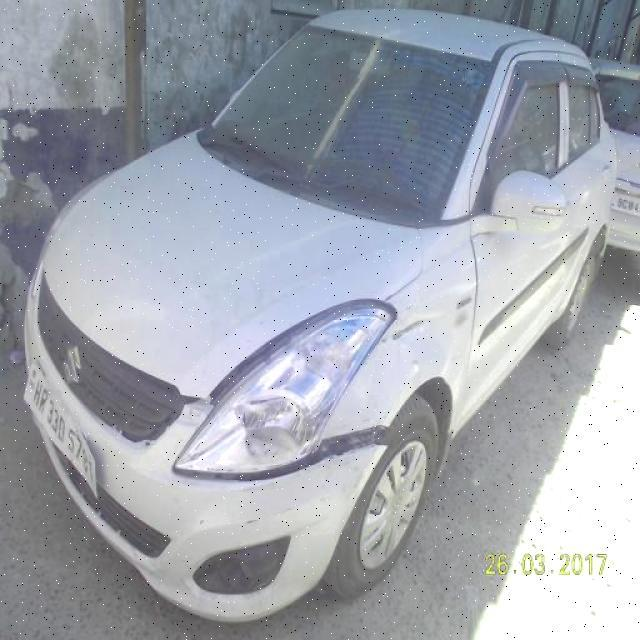car damage: (168, 426, 393, 482), (177, 381, 222, 423), (378, 318, 427, 350)
